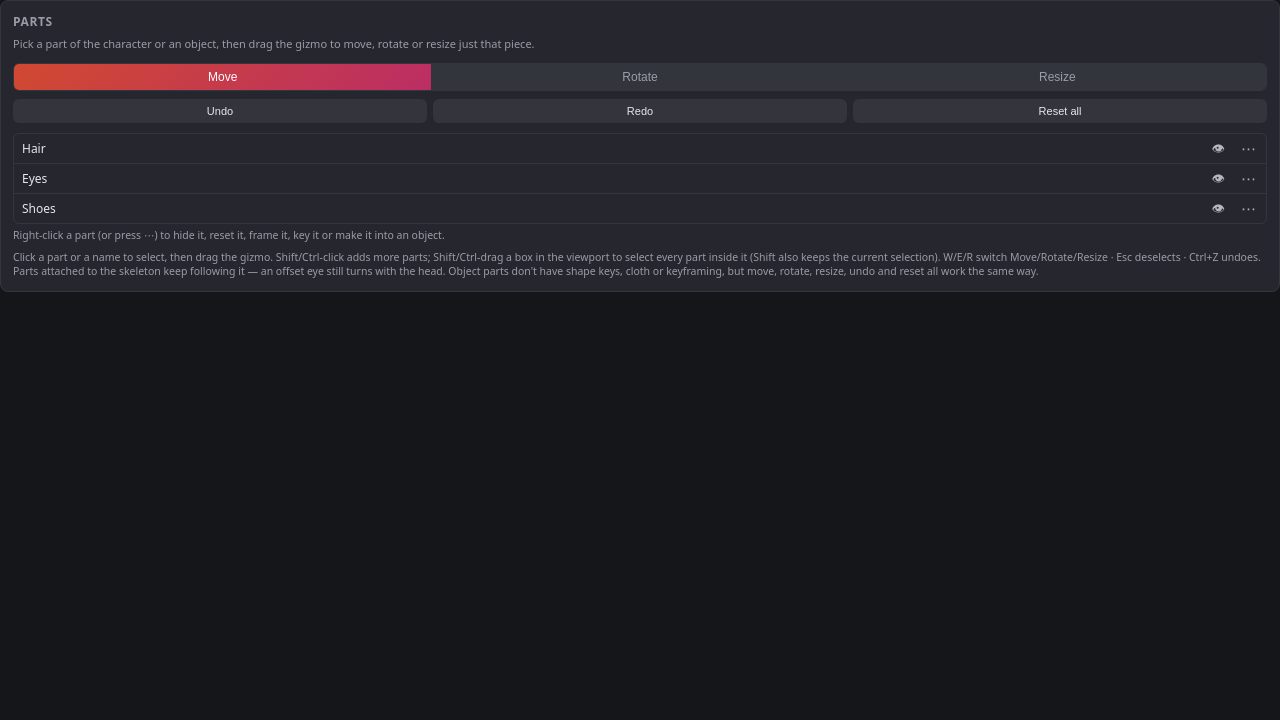
Test case: Parts panel: colour › has no colour controls until something is selected
This screenshot has width=1280, height=720.
Expected: the field labelled "Colour" is not shown
Click the text "Hair" at (640, 148), box [14, 134, 1266, 164]
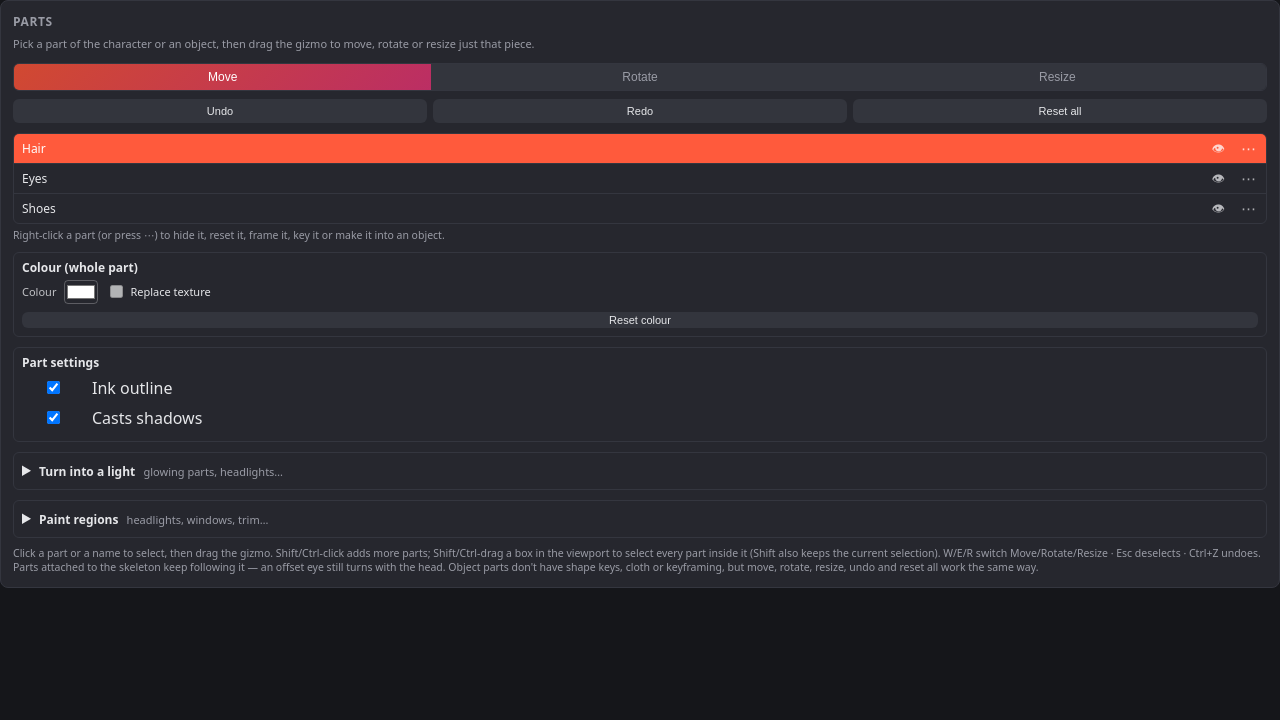
Now the colour field named "Colour" is shown, box [64, 280, 98, 304]
